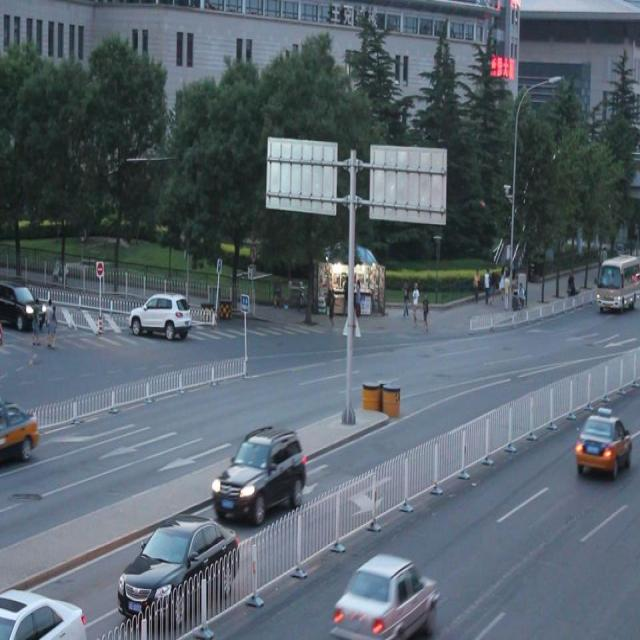car: (119, 512, 240, 623), (331, 548, 436, 640), (209, 427, 305, 521), (0, 586, 88, 640), (573, 409, 629, 474), (128, 294, 193, 344), (1, 394, 37, 462), (8, 283, 44, 330)
truck: (594, 250, 640, 313)
